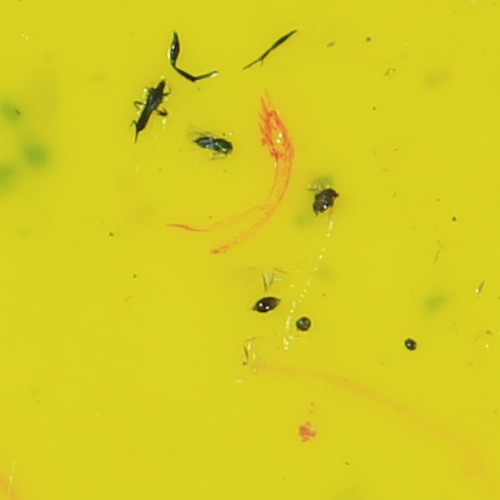Psyllaephagus: (190, 127, 234, 159)
